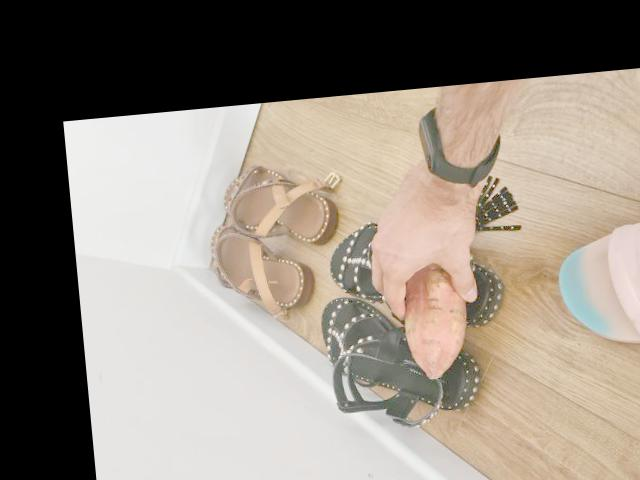sweet_potato: (402, 263, 473, 381)
